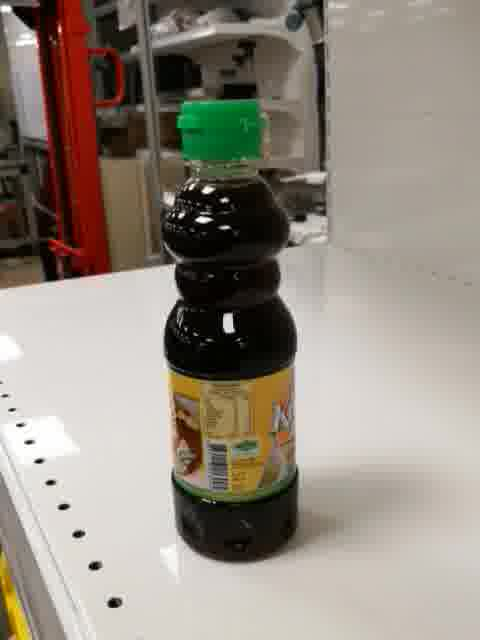cookingoil: (161, 96, 304, 568)
